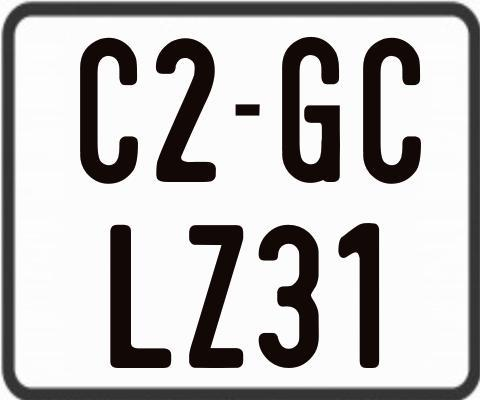1: (337, 222, 384, 372)
2: (153, 38, 217, 185)
3: (259, 224, 324, 369)
C: (78, 36, 140, 185), (362, 35, 422, 183)
G: (281, 34, 340, 185)
L: (107, 225, 171, 368)
Z: (187, 222, 247, 367)
